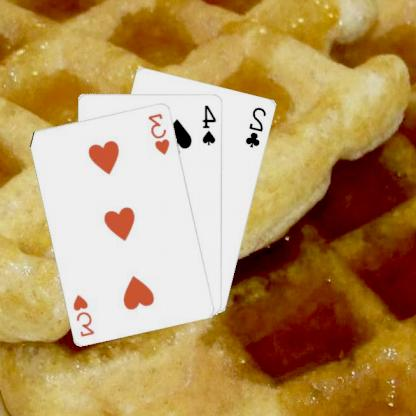2C: (245, 104, 270, 149)
3H: (72, 291, 98, 338), (147, 110, 173, 156)
4S: (202, 102, 220, 146)
